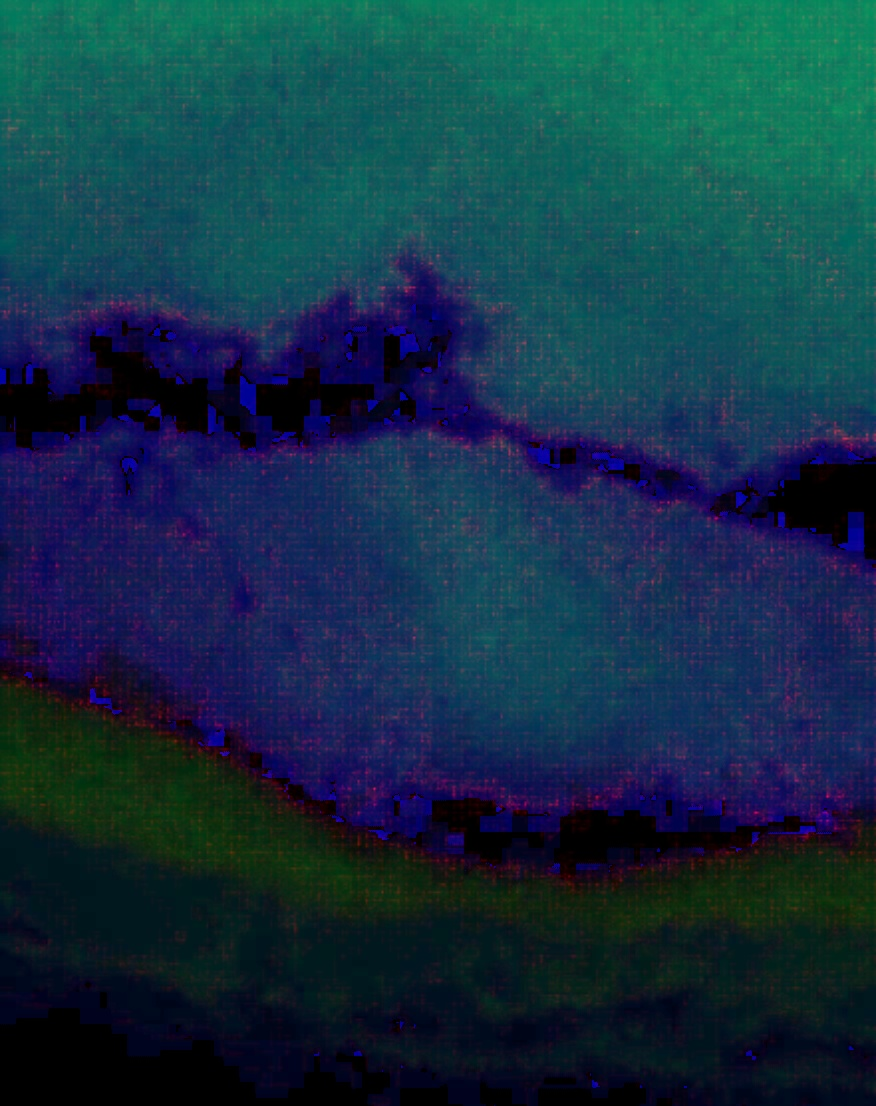rip_current: (323, 309, 733, 810)
